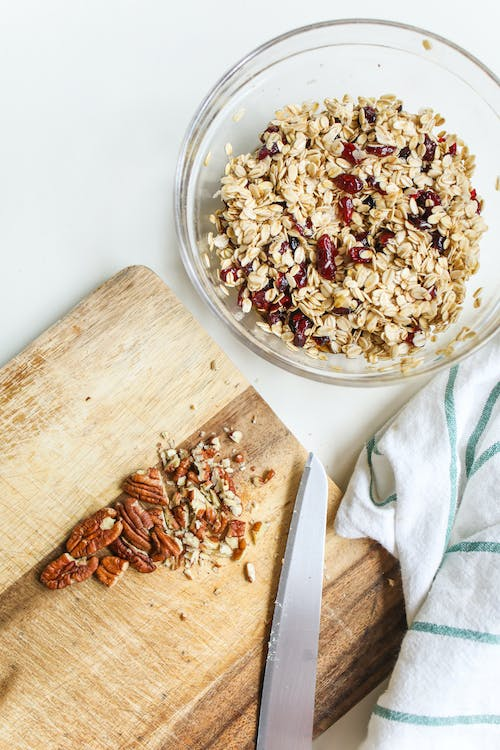knife: (253, 448, 330, 750)
